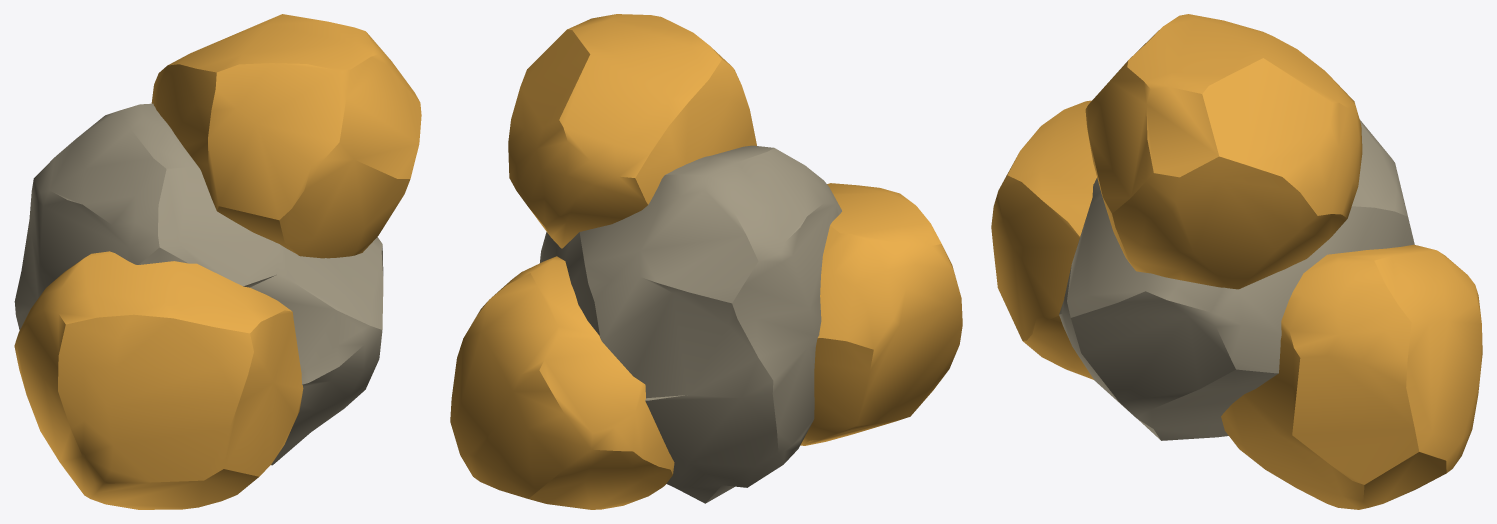
File: quaternius-pirate-kit-ui-gold.gltf
3 views of the same model, side by side, from view 1: azimuth 30°, elevation 25°; view 2: azimuth 150°, elevation 25°; view 3: azimuth 270°, elevation 25° (orthographic). The views are drawn at different scales.
Parts seen in each view (by area): view 1: UI_Gold; view 2: UI_Gold; view 3: UI_Gold.
Part boxes in pixels (bbox=[...]): UI_Gold: bbox=[14, 14, 421, 509]; UI_Gold: bbox=[450, 14, 962, 509]; UI_Gold: bbox=[991, 14, 1482, 509].
Size of the model in its own units: 0.3996 by 0.4168 by 0.4139.
1 material, 1 textured.
